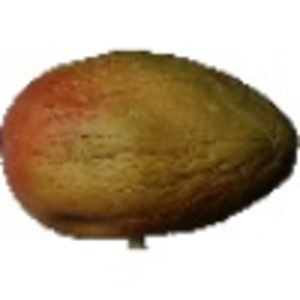mamão: (6, 36, 297, 241)
